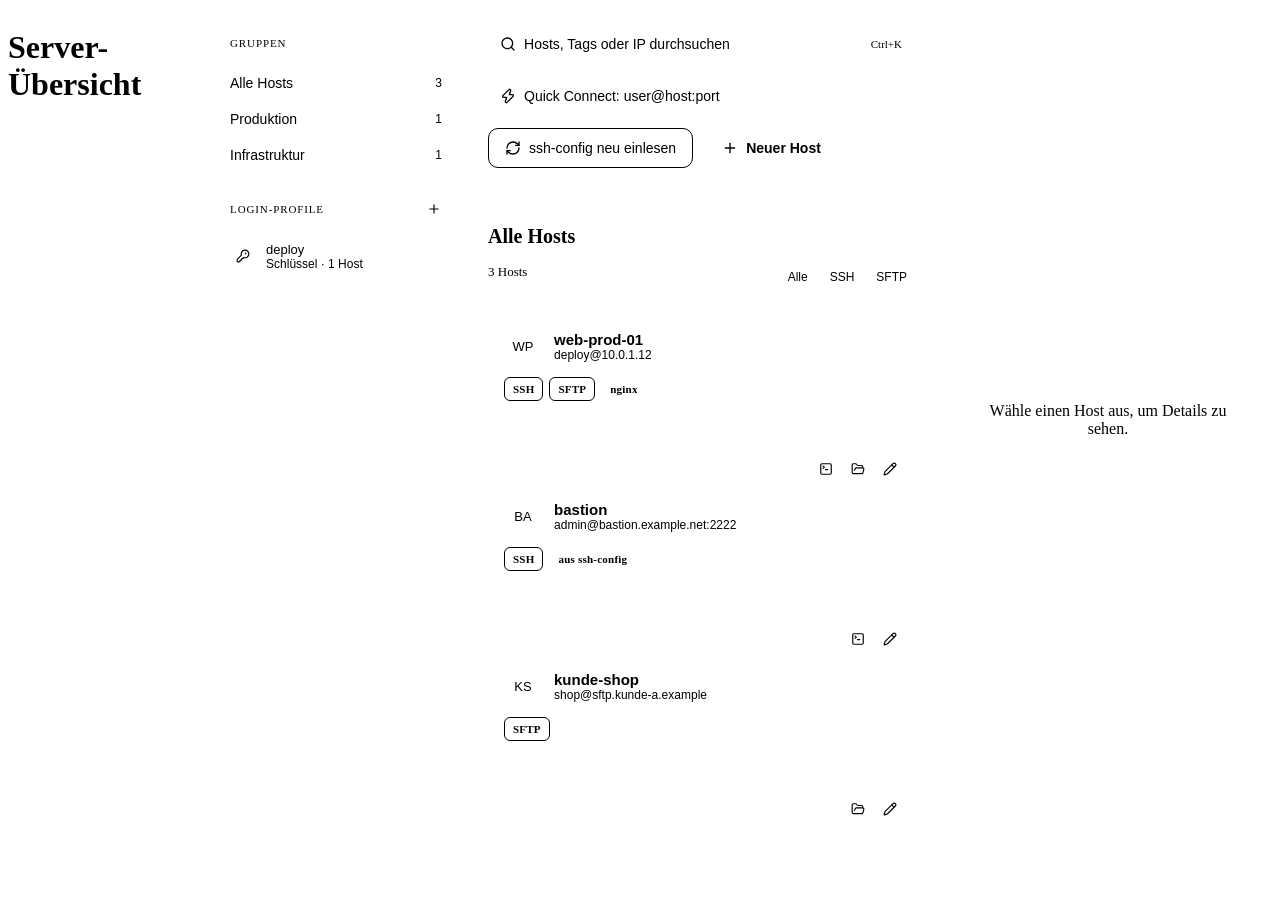
Test: HostsScreen › shows the details of the selected host
Expected: the text "Wähle einen Host aus, um Details zu sehen." is shown, [990, 402, 1226, 437]
Click the button with aria-label "web-prod-01 auswählen" at (599, 339), box [504, 327, 904, 365]
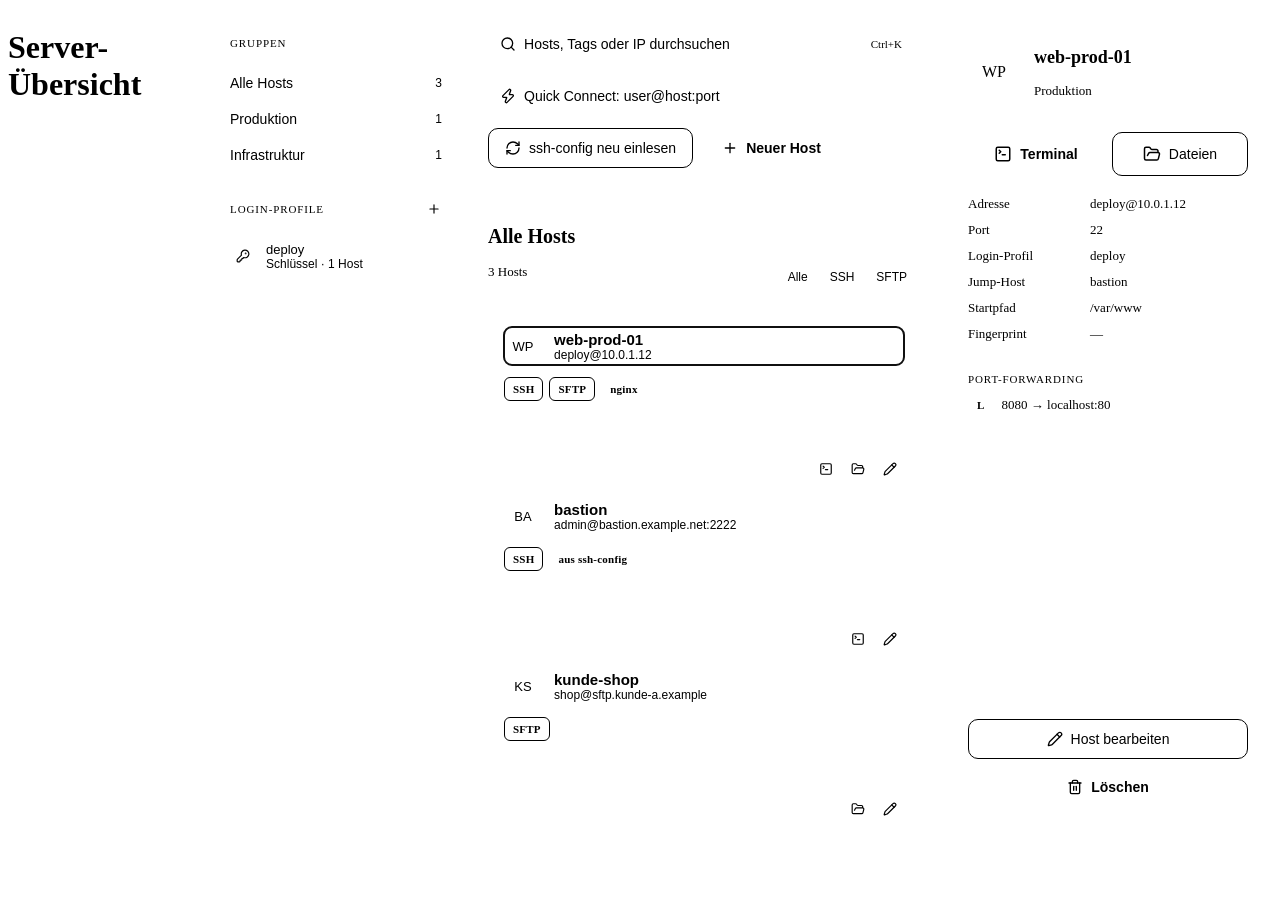
Expected: the heading "web-prod-01" is shown, [1034, 47, 1132, 68]
Expected: the 1st text "Produktion" is shown, [1034, 83, 1092, 98]
Expected: the text "deploy" below "Adresse" is shown, [1090, 248, 1125, 263]
